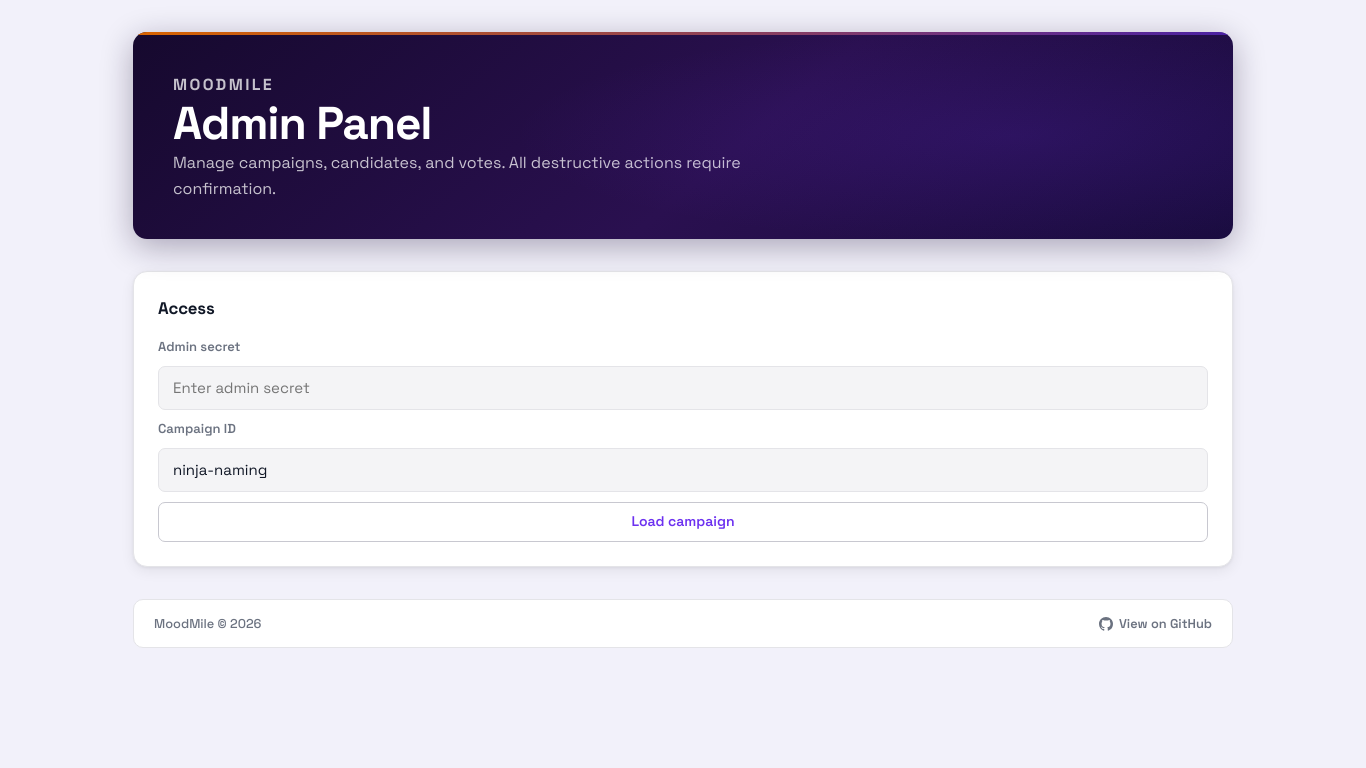
Test case: AdminPage document title › shows the invalid secret message for a 401 API error
This screenshot has width=1366, height=768.
Type "secret" into the password field labelled "Admin secret".
click(683, 388); type("secret")  # box [158,366,1208,410]
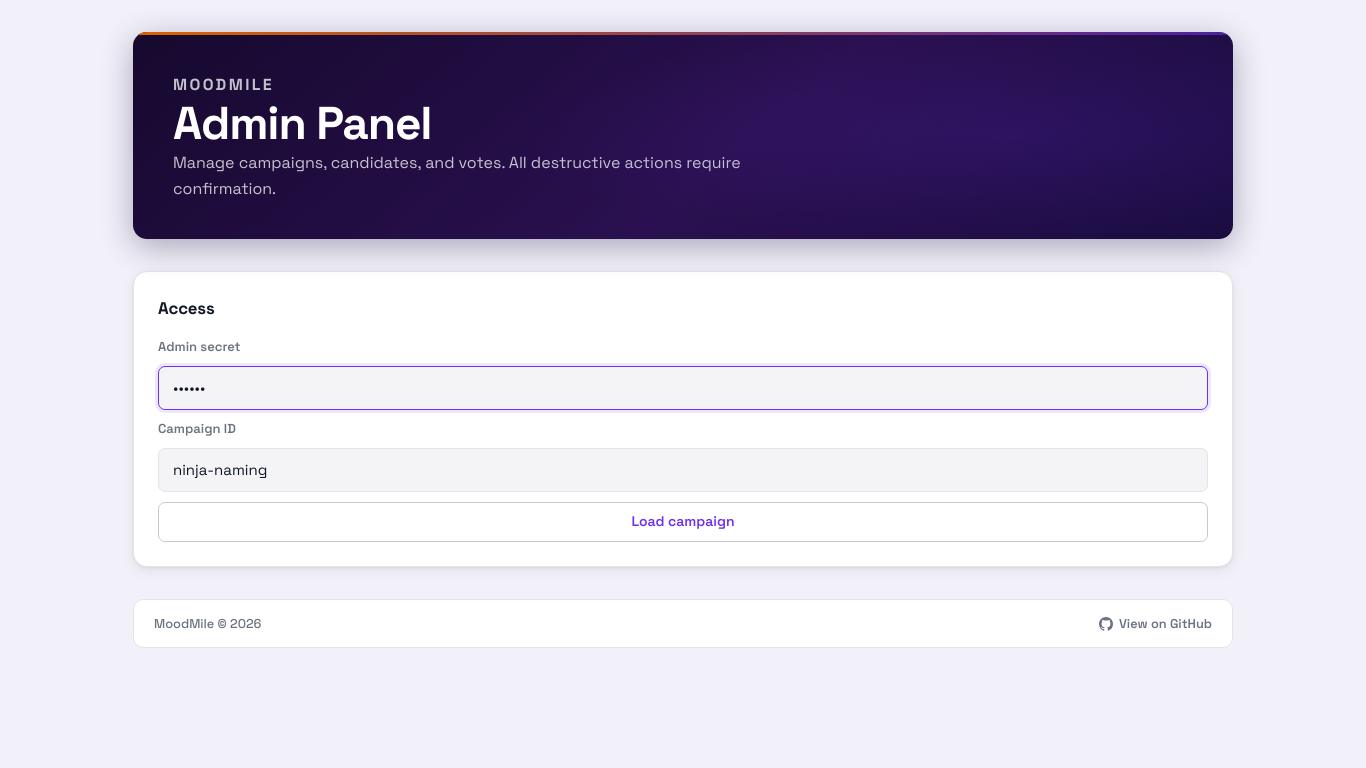
Click the button "Load campaign".
click(683, 522)  # box [158,502,1208,542]
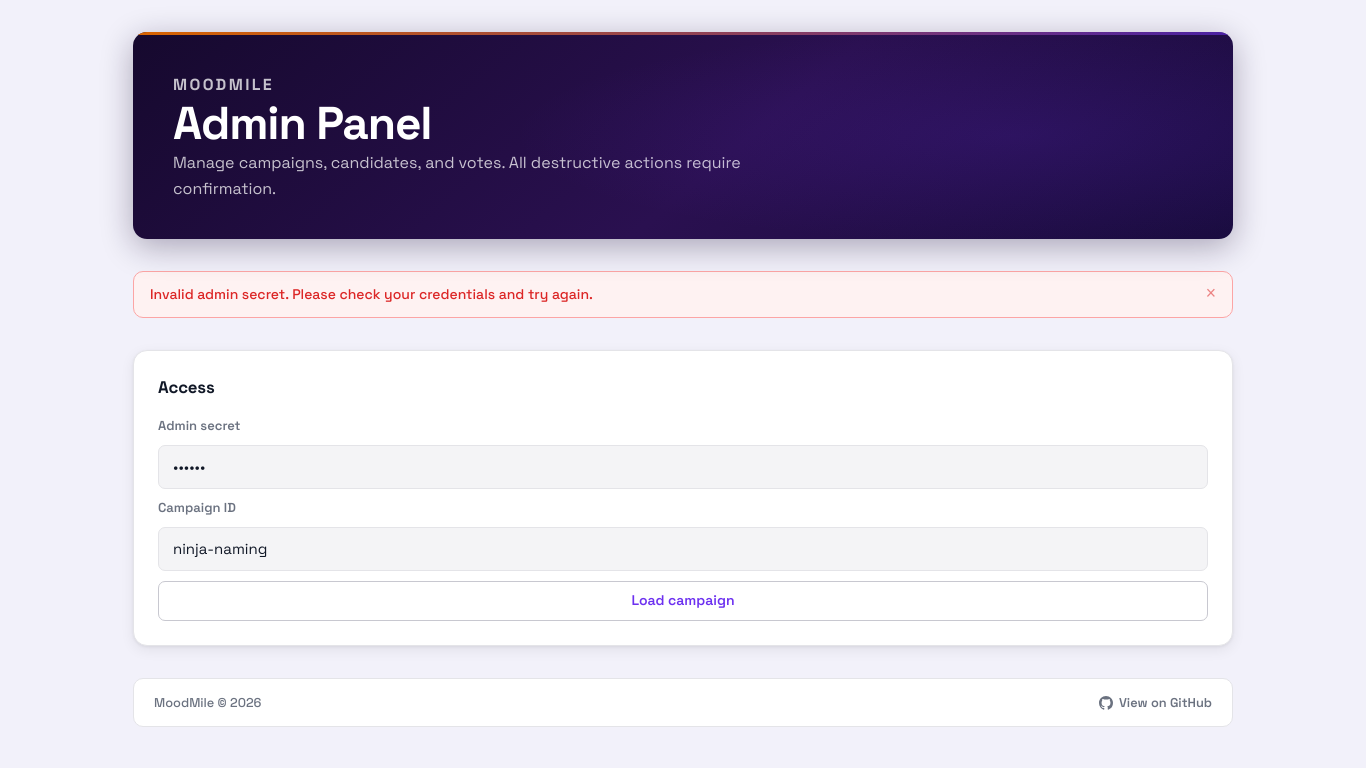
Now the message shows "Invalid admin secret. Please check your credentials and try again.", box [150,285,593,303]
